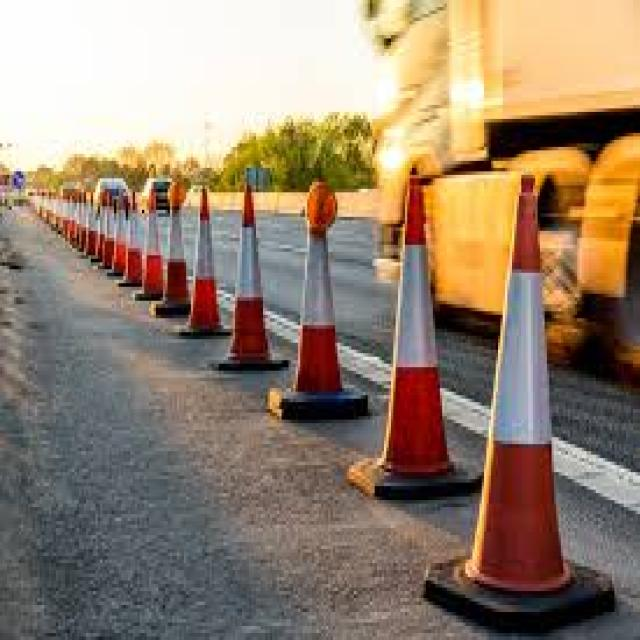cone: (420, 173, 619, 635), (348, 174, 488, 496), (266, 181, 371, 427), (212, 182, 288, 375), (174, 185, 232, 341), (150, 185, 192, 321), (132, 188, 167, 304), (118, 196, 142, 290)
